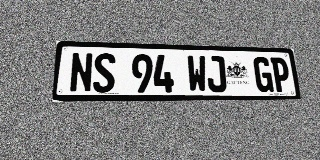4: (153, 54, 174, 92)
9: (132, 54, 153, 93)
G: (253, 57, 274, 92)
J: (206, 56, 227, 92)
N: (69, 52, 93, 93)
P: (270, 57, 291, 92)
S: (93, 53, 115, 93)
W: (187, 55, 208, 92)
